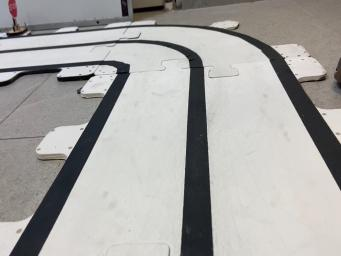stop: (6, 0, 28, 37), (6, 0, 28, 37), (6, 0, 28, 37), (6, 0, 28, 37), (6, 0, 28, 37)
street: (0, 26, 341, 255), (0, 26, 341, 255), (0, 26, 341, 255), (0, 26, 341, 255), (0, 26, 341, 255)
